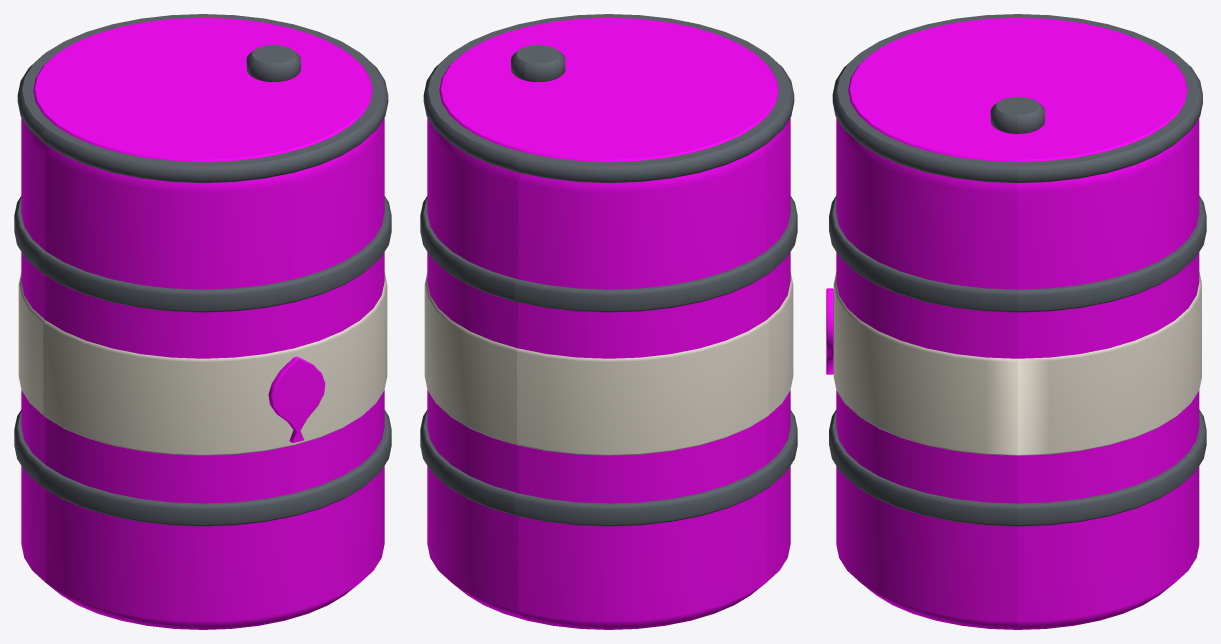
Rendered from objet_baril_eau.glb.
The picture shows the model from 3 angles, left to right: view 1: azimuth 30°, elevation 25°; view 2: azimuth 150°, elevation 25°; view 3: azimuth 270°, elevation 25°; orthographic projection.
Parts seen in each view (by area): view 1: baril_teinte.008, baril_etiquette_claire.002, baril_acier_doux_sombre.008; view 2: baril_teinte.008, baril_etiquette_claire.002, baril_acier_doux_sombre.008; view 3: baril_teinte.008, baril_etiquette_claire.002, baril_acier_doux_sombre.008.
Part boxes in pixels (x1,y1,x2,y2): baril_teinte.008: (21,17,384,629); baril_etiquette_claire.002: (18,273,387,455); baril_acier_doux_sombre.008: (14,14,391,526); baril_teinte.008: (427,17,790,629); baril_etiquette_claire.002: (424,273,793,455); baril_acier_doux_sombre.008: (420,14,797,526); baril_teinte.008: (826,17,1199,629); baril_etiquette_claire.002: (833,272,1201,455); baril_acier_doux_sombre.008: (829,14,1206,526).
Bounding box in the file's own units: 0.208 × 0.2975 × 0.2095.
